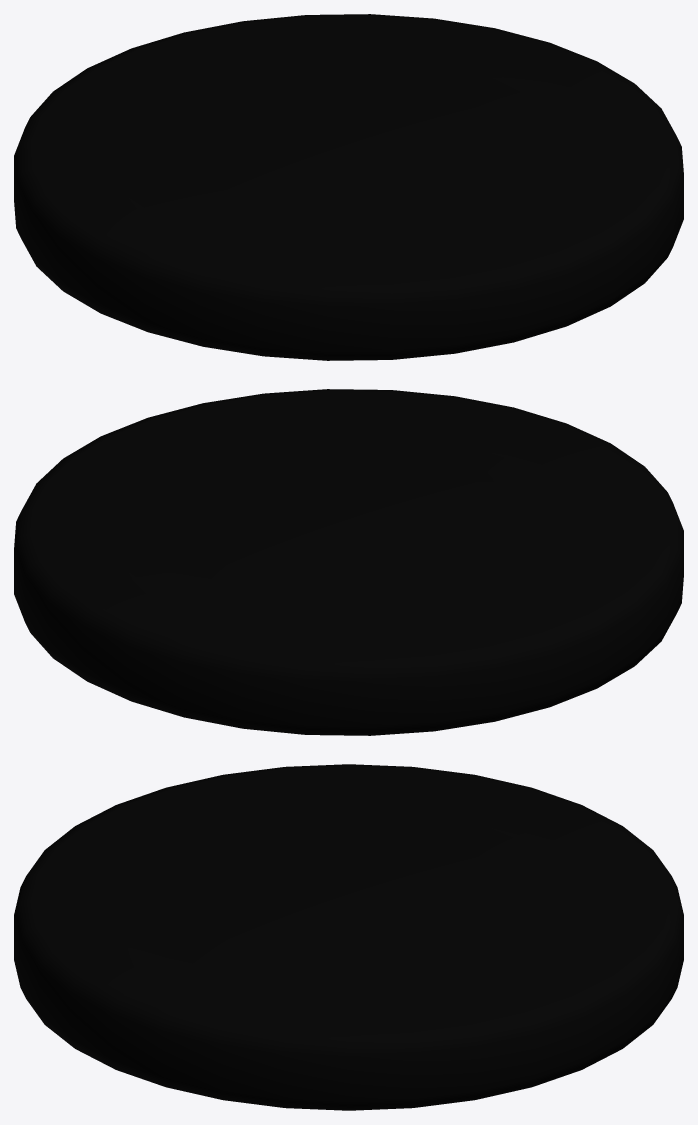
File: disk.obj
The picture shows the model from 3 angles, top to bottom: view 1: azimuth 30°, elevation 25°; view 2: azimuth 150°, elevation 25°; view 3: azimuth 270°, elevation 25°; orthographic projection.
Visible parts, largest first — view 1: Disc; view 2: Disc; view 3: Disc.
Boxes of the visible parts, <box> form: Disc: <box>14,14,683,360</box>; Disc: <box>14,389,683,735</box>; Disc: <box>14,764,683,1110</box>.
Size of the model in its own units: 0.0578 by 0.00775 by 0.0578.
